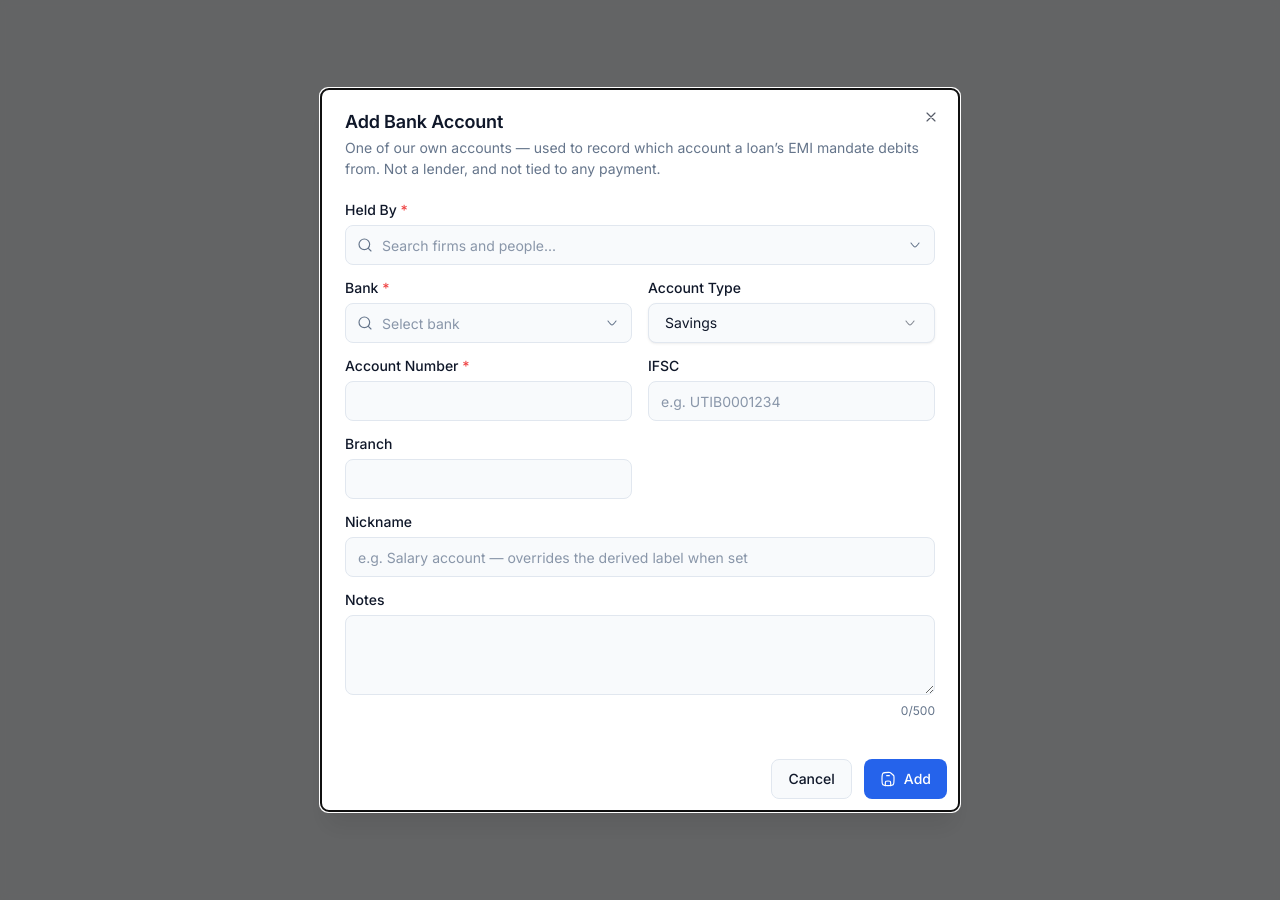
Test: BankAccountModal › rejects an invalid IFSC code format
expect the dropdown labelled "Held By *" is enabled: met, box [345, 225, 935, 265]
Type "NOTVALID" into the field labelled "IFSC" at (792, 401), box [648, 381, 935, 421]
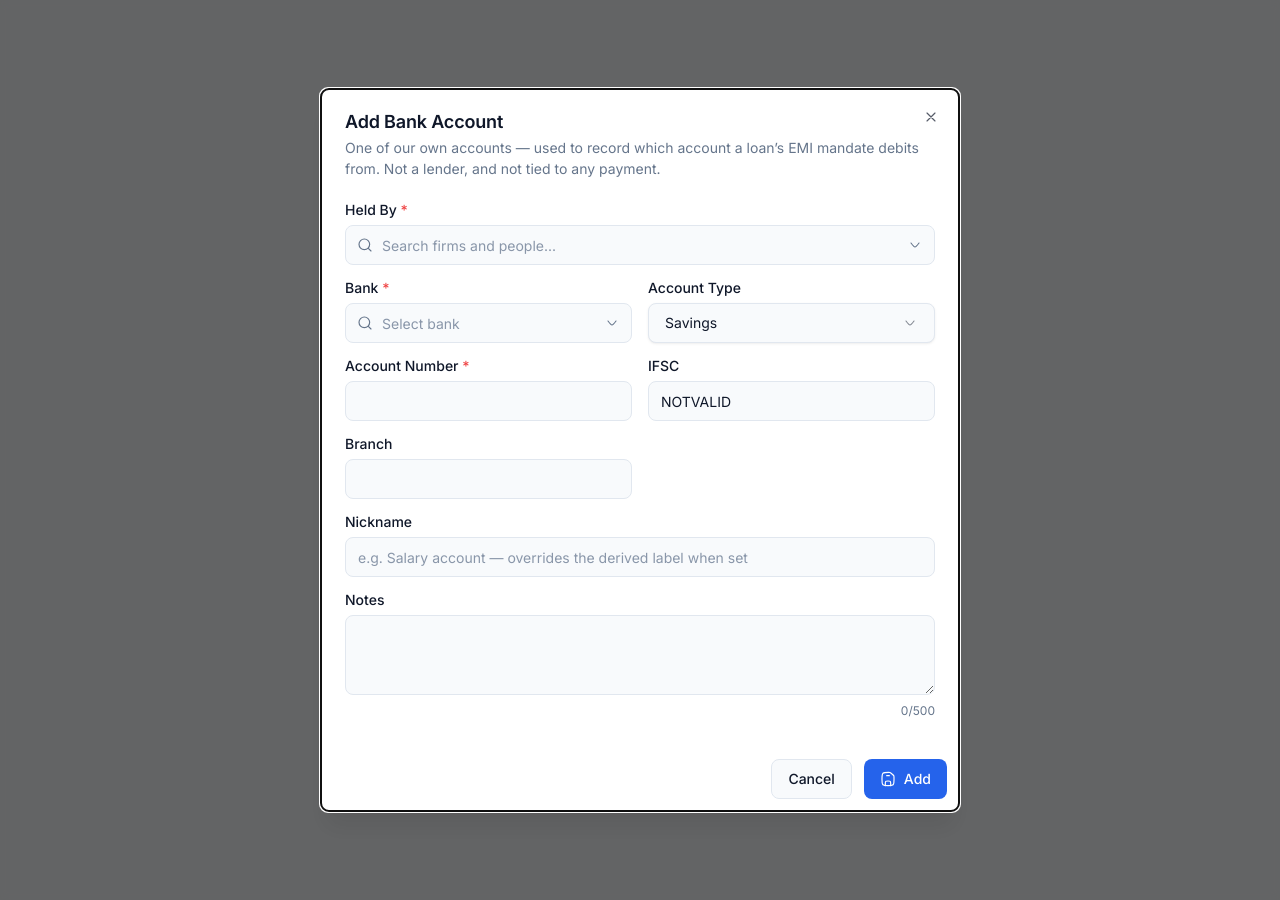
Click the button "Add" at (905, 779), box [864, 759, 947, 799]
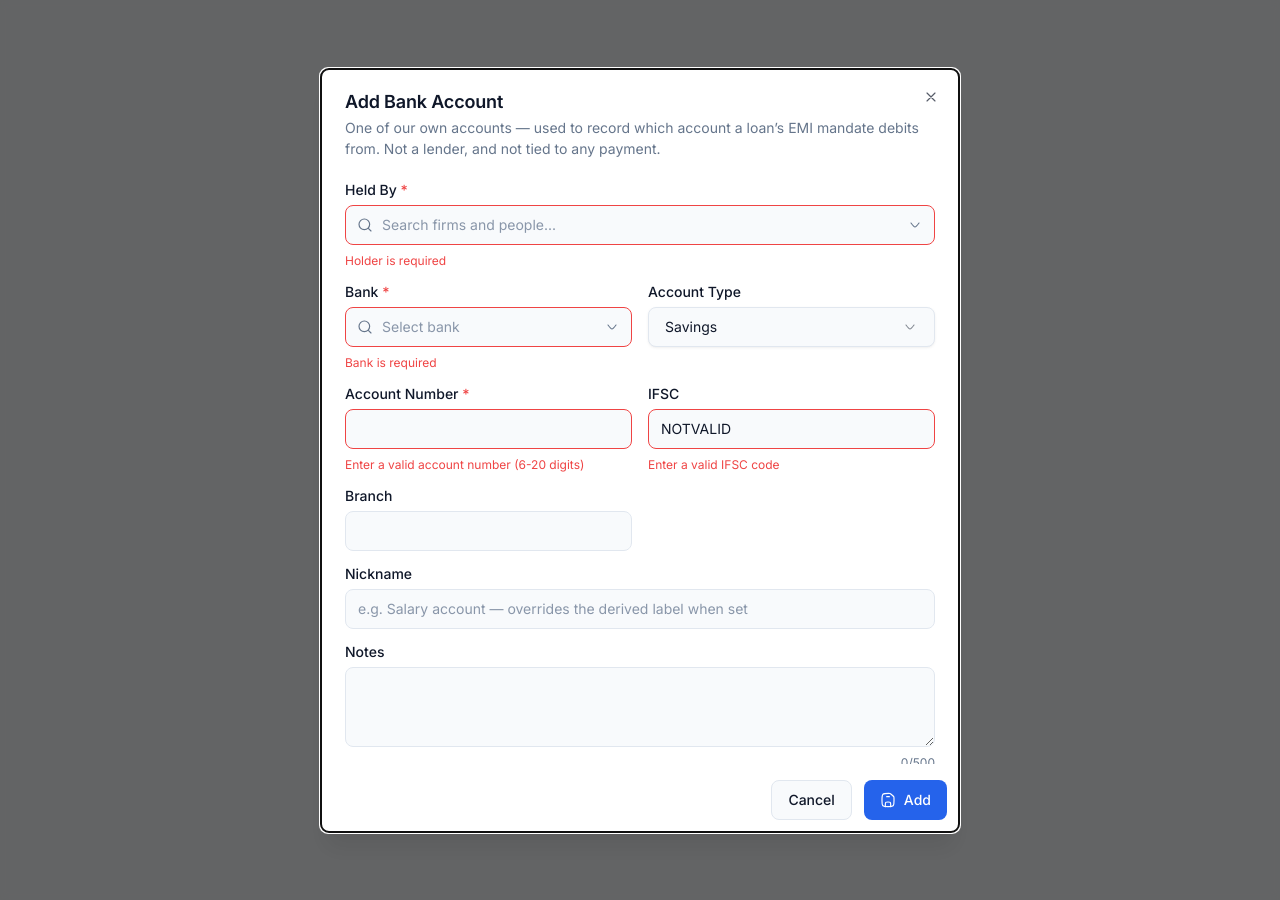
expect the text "Enter a valid IFSC code" is shown: met, box [648, 456, 780, 472]
